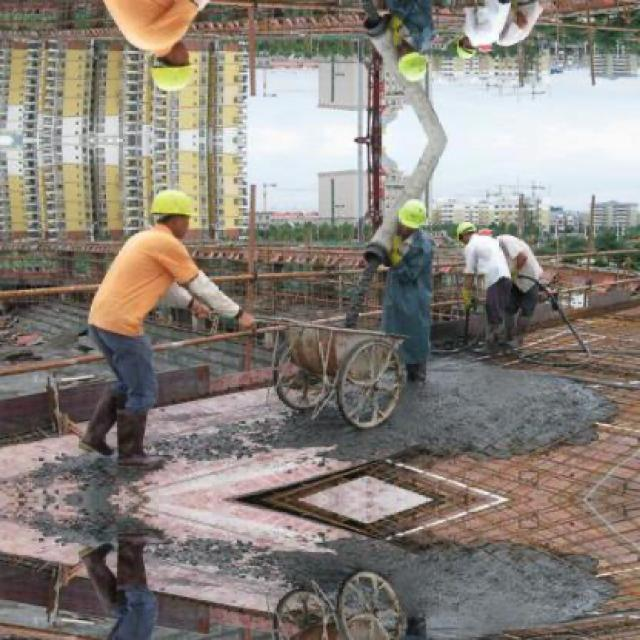con casco: (131, 182, 276, 269), (345, 197, 445, 269), (431, 205, 484, 246)
